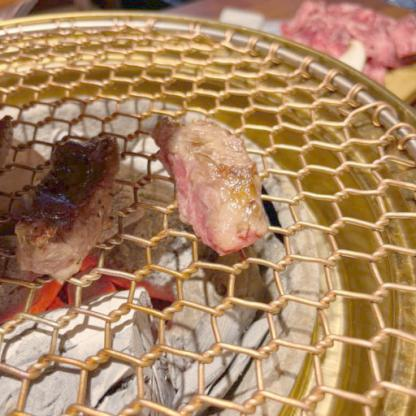Carne: (149, 97, 273, 256)
